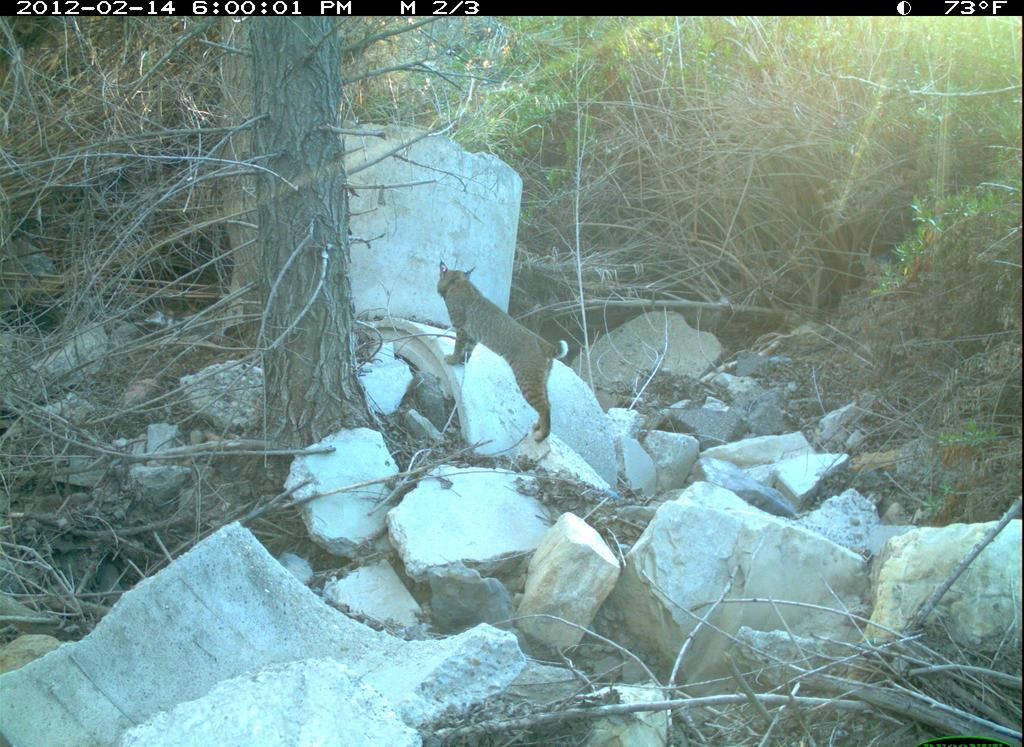bobcat: (432, 258, 571, 449)
